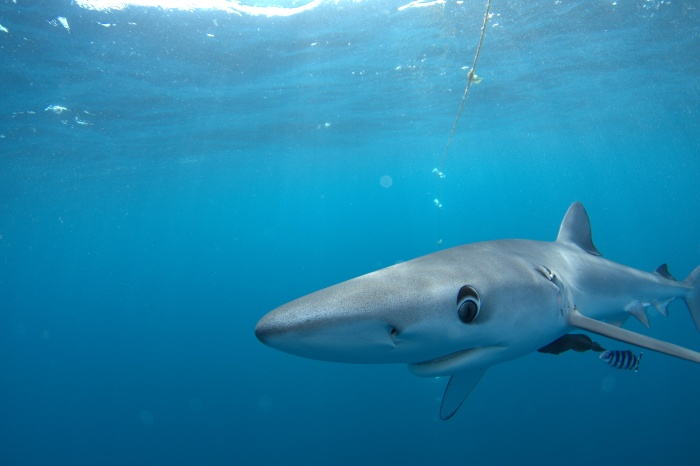Azul: (226, 179, 700, 440)
